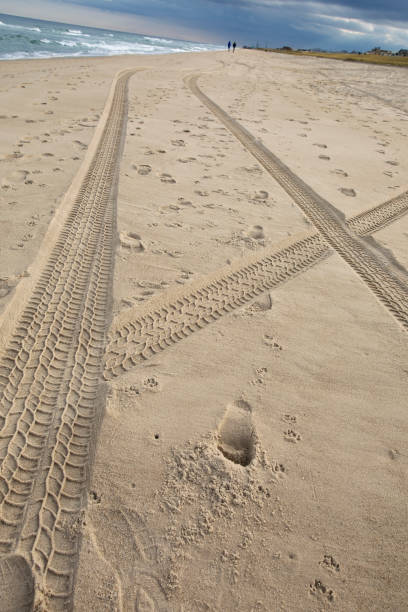vehicle_track: (0, 71, 133, 609), (185, 75, 407, 328), (104, 233, 330, 378), (104, 233, 329, 378), (347, 191, 407, 235)
